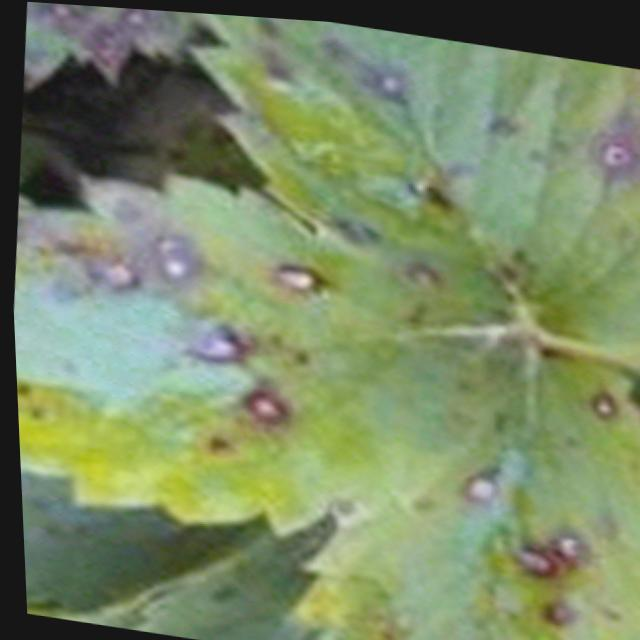Leaf Spot: (11, 164, 524, 535), (185, 10, 640, 342), (280, 346, 640, 640), (23, 1, 203, 89)
